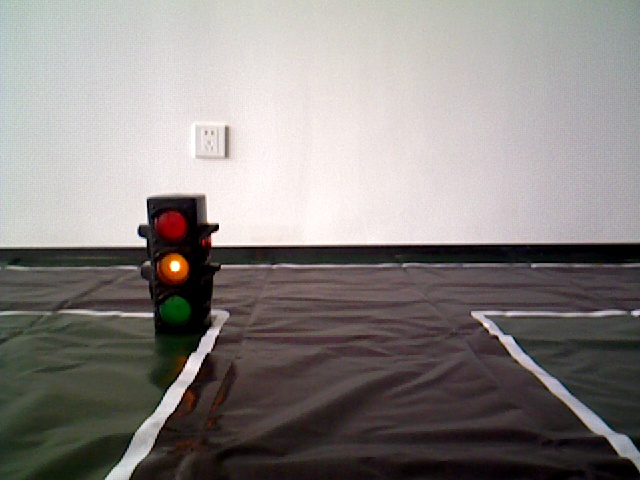yellow: (147, 192, 210, 331)
